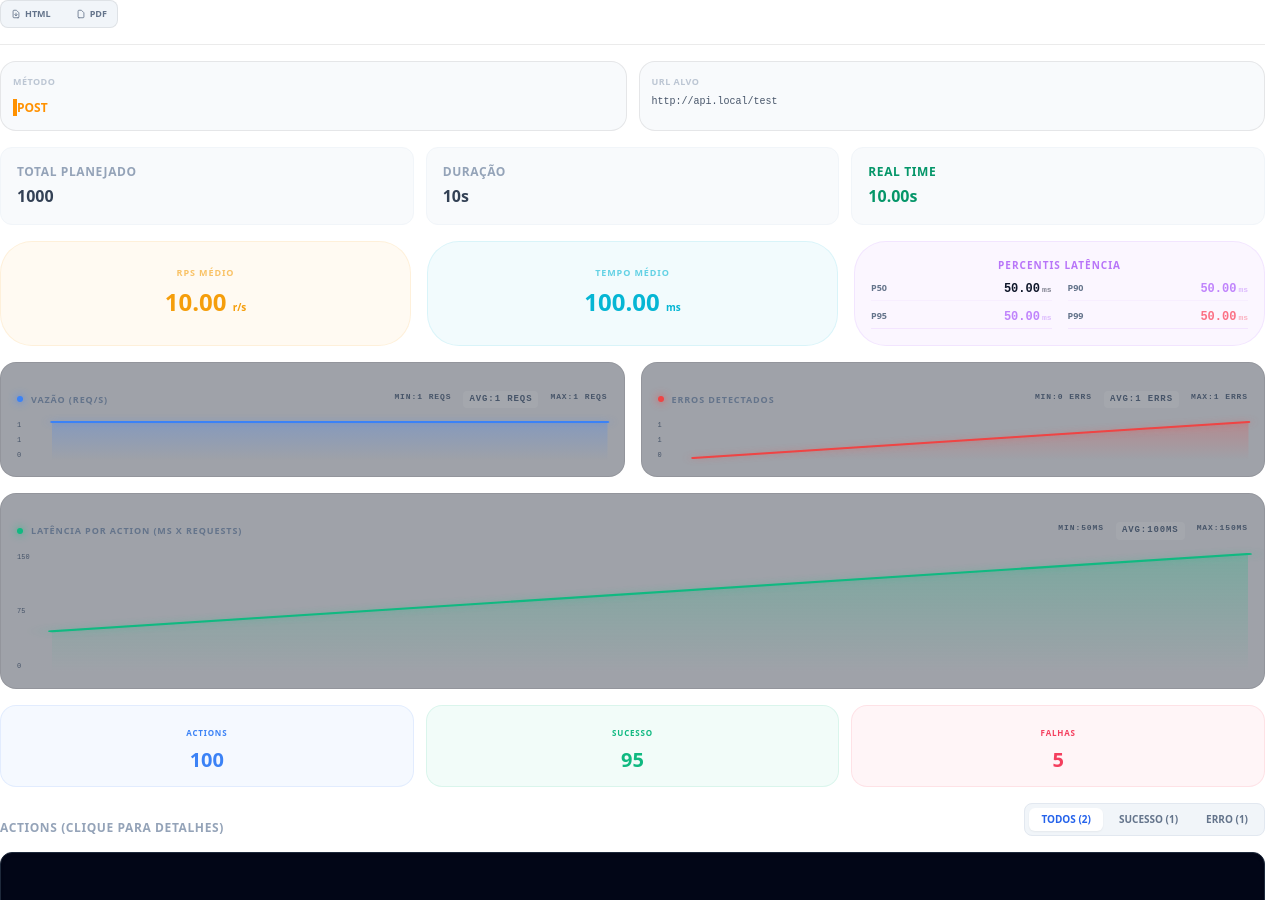
Scenario: ReportView › should filter logs by type (Success/Error)
# Clica no filtro de ERRO
Click the button "ERRO (1)": (1227, 819) [1194, 808, 1260, 830]
(page scrolled)
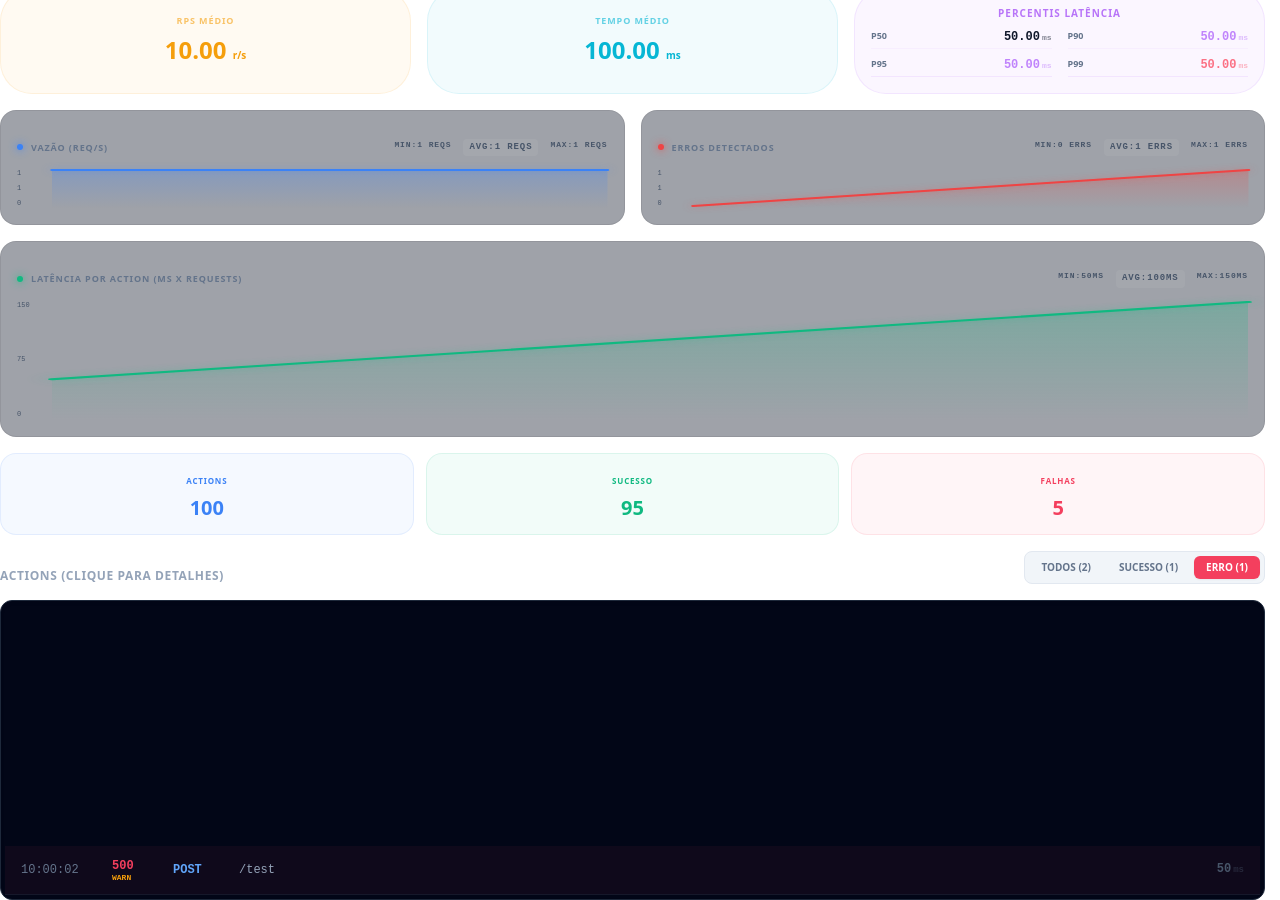
expect the text "10:00:02" is shown: met, box [21, 862, 79, 876]
